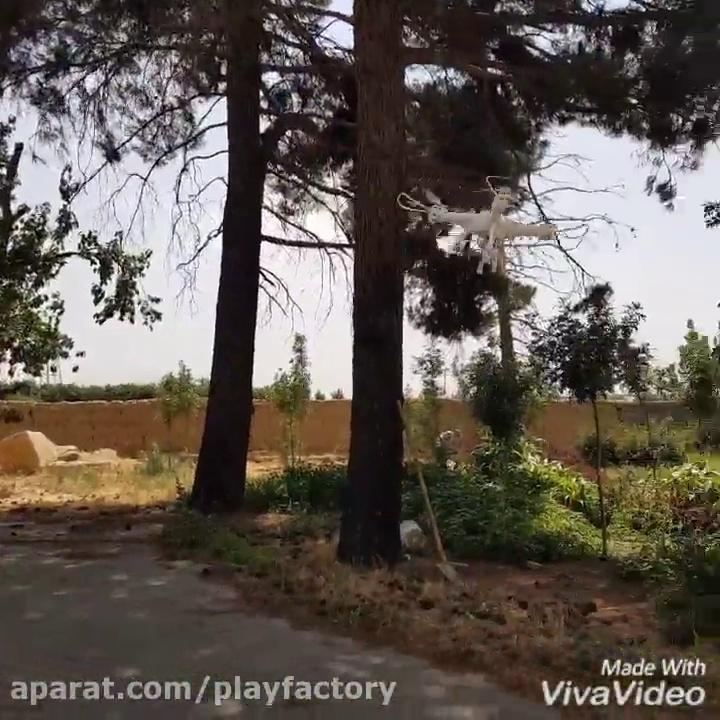drone: (396, 174, 562, 276)
